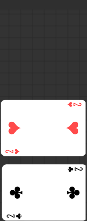2C: (66, 166, 84, 174)
2H: (66, 102, 82, 109)
